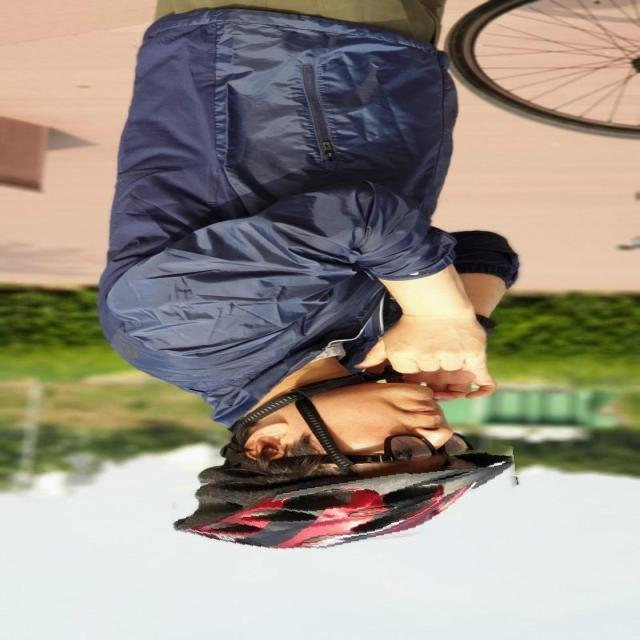helmet: (169, 456, 521, 557)
